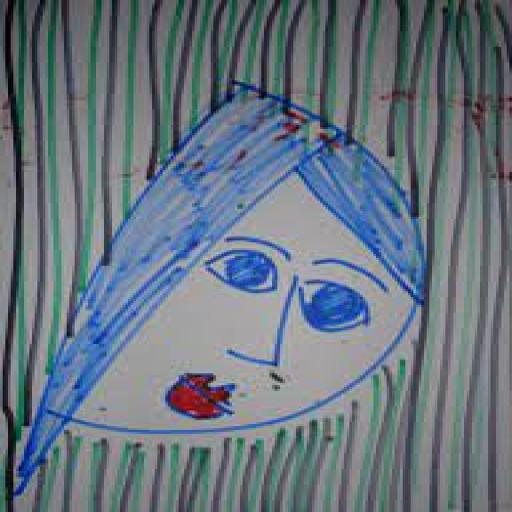person: (10, 75, 441, 499)
